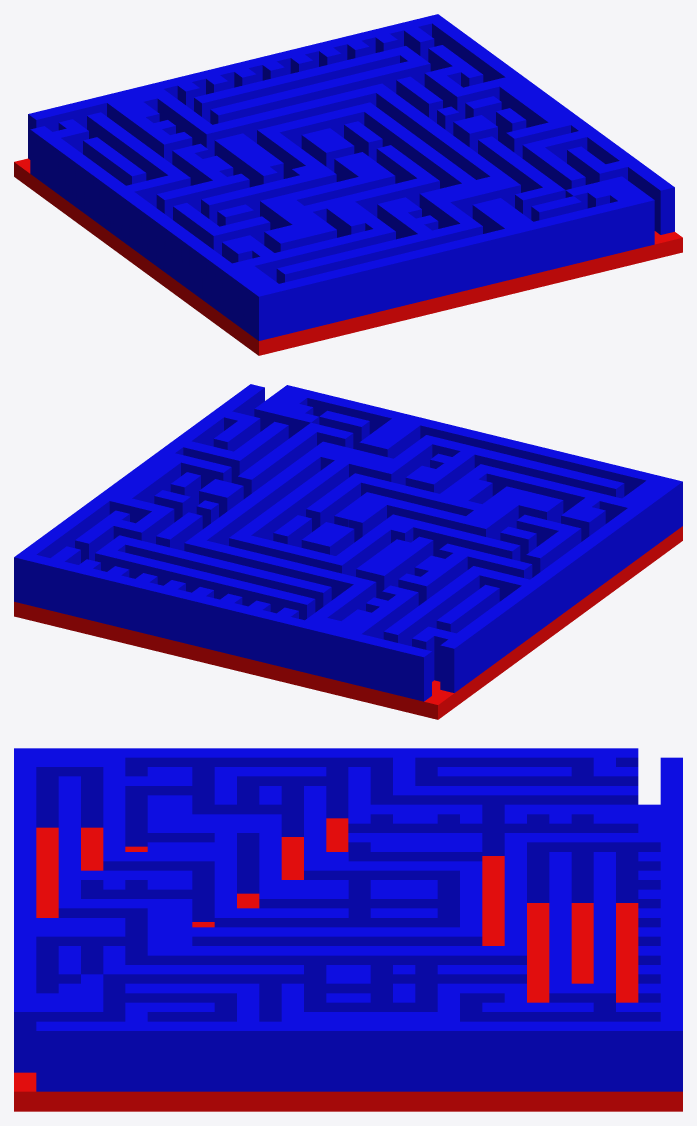
File: laby.glb
3 renders of one model, top to bottom at view 1: azimuth 30°, elevation 25°; view 2: azimuth 150°, elevation 25°; view 3: azimuth 270°, elevation 25°, orthographic. The views are drawn at different scales.
Parts seen in each view (by area): view 1: Objekt_243, Objekt_1, Objekt_244, Objekt_226, Objekt_273, Objekt_276, Objekt_275, Objekt_236, Objekt_285, Objekt_283, Objekt_282, Objekt_237 (+42 smaller); view 2: Objekt_243, Objekt_1, Objekt_271, Objekt_472, Objekt_476, Objekt_473, Objekt_239, Objekt_35, Objekt_32, Objekt_483, Objekt_482, Objekt_480 (+42 smaller); view 3: Objekt_1, Objekt_243, Objekt_315, Objekt_286, Objekt_226, Objekt_196, Objekt_170, Objekt_148, Objekt_121, Objekt_101, Objekt_67, Objekt_62 (+57 smaller).
Boxes of the visible parts, left/top/right/bottom form: Objekt_243: left=14, top=158, right=470, bottom=355; Objekt_1: left=471, top=231, right=682, bottom=303; Objekt_244: left=250, top=287, right=272, bottom=340; Objekt_226: left=652, top=181, right=674, bottom=234; Objekt_273: left=279, top=280, right=301, bottom=334; Objekt_276: left=321, top=270, right=343, bottom=323; Objekt_275: left=307, top=273, right=329, bottom=327; Objekt_236: left=604, top=201, right=626, bottom=254; Objekt_285: left=449, top=239, right=470, bottom=292; Objekt_283: left=420, top=246, right=442, bottom=299; Objekt_282: left=406, top=249, right=428, bottom=302; Objekt_237: left=618, top=197, right=640, bottom=251; Objekt_243: left=226, top=526, right=682, bottom=719; Objekt_1: left=14, top=601, right=225, bottom=667; Objekt_271: left=440, top=639, right=462, bottom=692; Objekt_472: left=410, top=648, right=431, bottom=701; Objekt_476: left=353, top=634, right=375, bottom=687; Objekt_473: left=395, top=644, right=417, bottom=698; Objekt_239: left=197, top=596, right=219, bottom=649; Objekt_35: left=28, top=555, right=49, bottom=608; Objekt_32: left=70, top=565, right=92, bottom=618; Objekt_483: left=254, top=610, right=276, bottom=663; Objekt_482: left=268, top=613, right=290, bottom=666; Objekt_480: left=296, top=620, right=318, bottom=673; Objekt_1: left=14, top=950, right=682, bottom=1111; Objekt_243: left=36, top=818, right=638, bottom=950; Objekt_315: left=125, top=776, right=147, bottom=846; Objekt_286: left=36, top=757, right=58, bottom=827; Objekt_226: left=36, top=1021, right=58, bottom=1091; Objekt_196: left=125, top=1021, right=147, bottom=1091; Objekt_170: left=192, top=1021, right=214, bottom=1091; Objekt_148: left=259, top=1021, right=281, bottom=1091; Objekt_121: left=348, top=1021, right=370, bottom=1091; Objekt_101: left=415, top=1021, right=437, bottom=1091; Objekt_67: left=482, top=1021, right=504, bottom=1091; Objekt_62: left=549, top=1021, right=571, bottom=1091.
Size of the model in its own units: 20.33 by 2.71 by 20.33.
